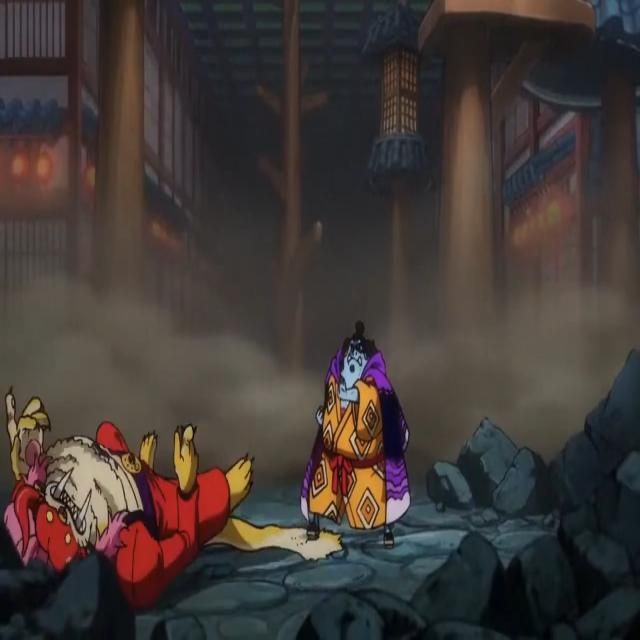Jinbe: (290, 315, 414, 559)
